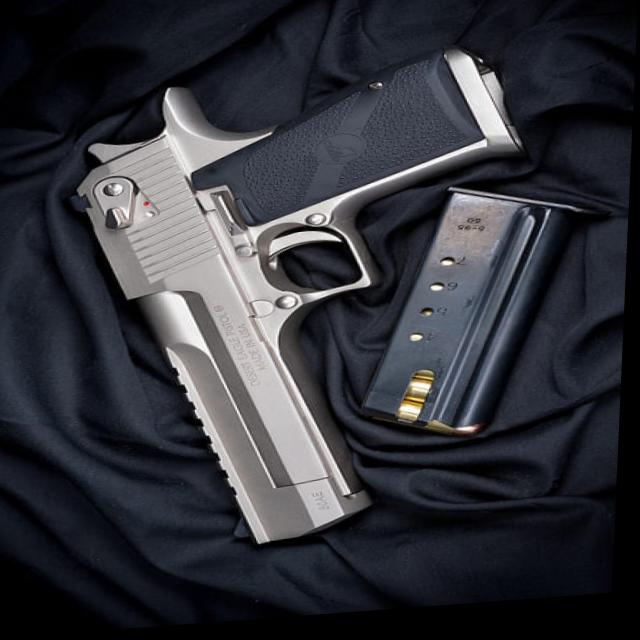handgun: (62, 31, 565, 565)
